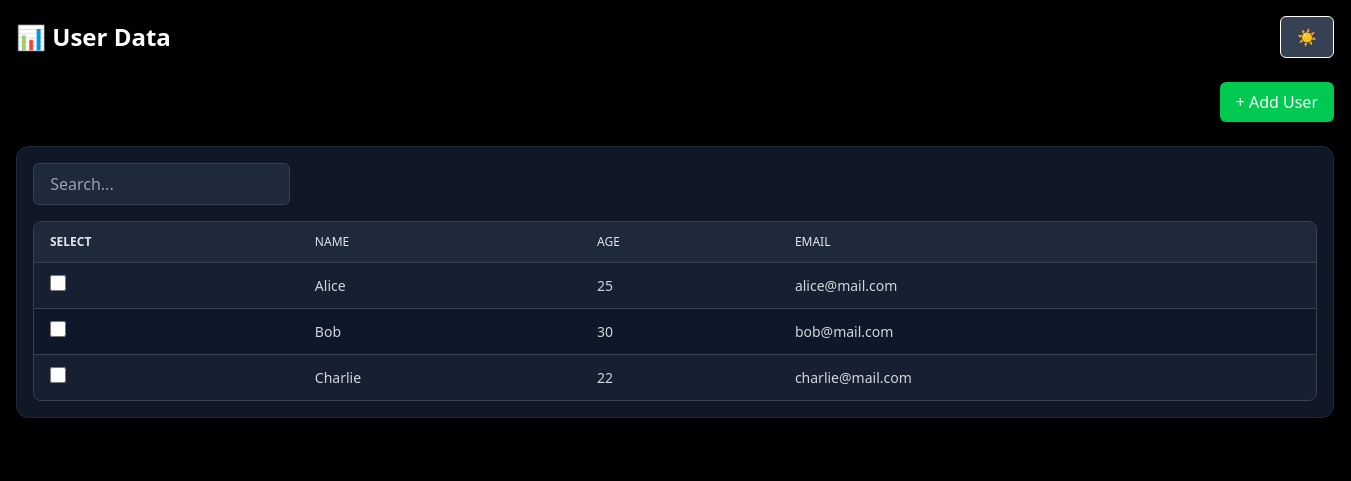
Test: DataTable Component › adds a new user when 'Add User' is clicked
Click the button "+ Add User". click: (1277, 102)
box: [1220,82,1334,122]
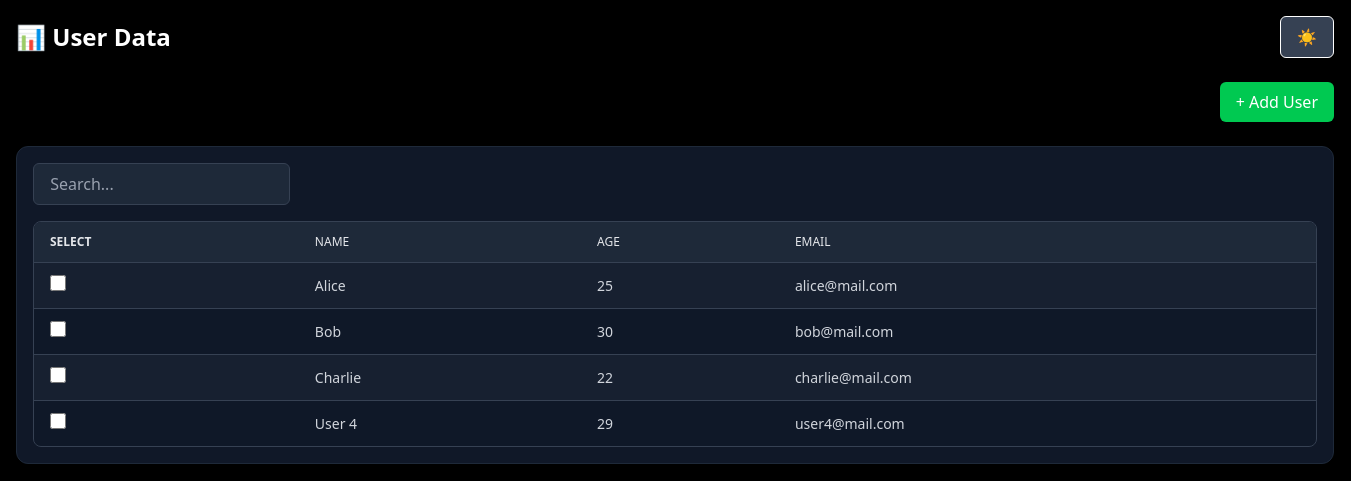
Now the text "User 4" is shown, box [299,400,581,446]
